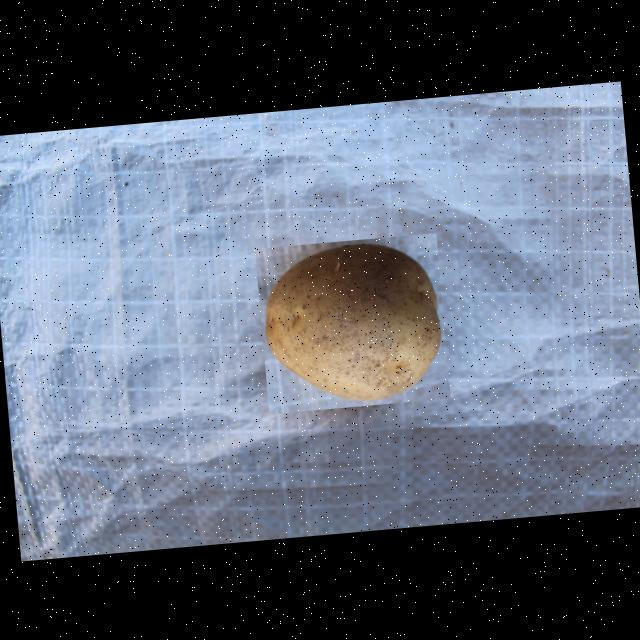Diseased-fungal potato: (253, 232, 450, 413)
